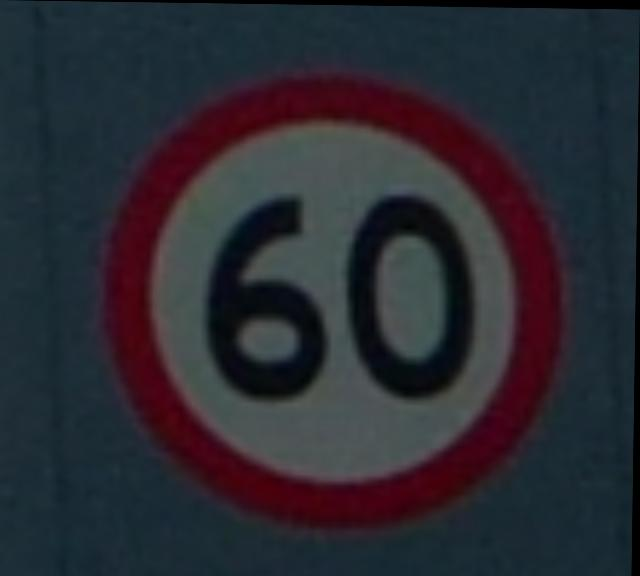limit60: (88, 54, 581, 542)
